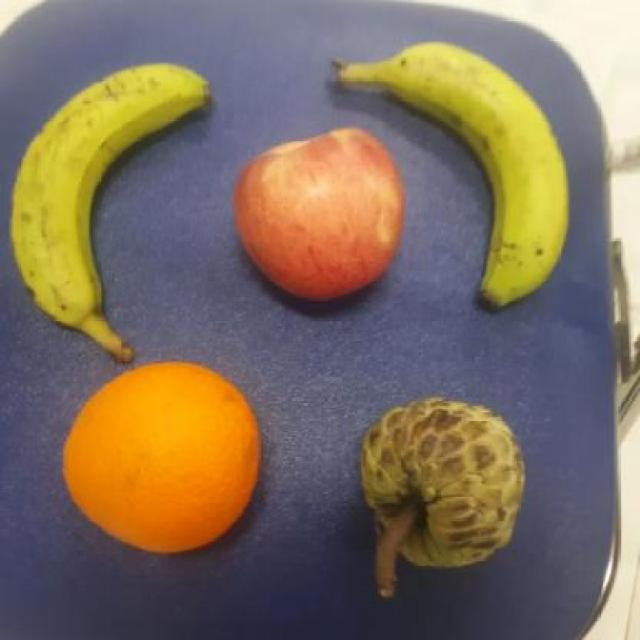apple: (233, 126, 402, 300)
banana: (330, 39, 568, 306), (10, 63, 210, 363)
oren: (62, 362, 260, 556)
sugar apple: (358, 396, 524, 566)
